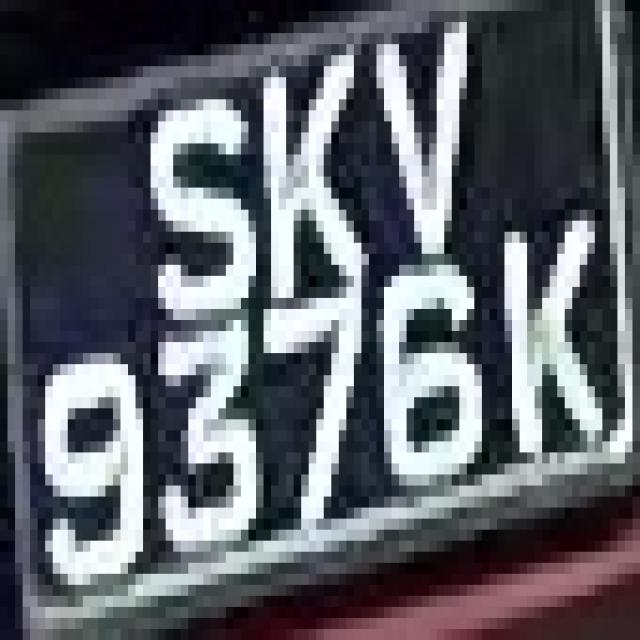3: (143, 298, 256, 607)
6: (354, 264, 482, 508)
7: (264, 298, 384, 585)
9: (30, 320, 151, 607)
K: (490, 232, 618, 474), (248, 66, 369, 309)
S: (120, 66, 256, 309)
V: (362, 33, 504, 276)
